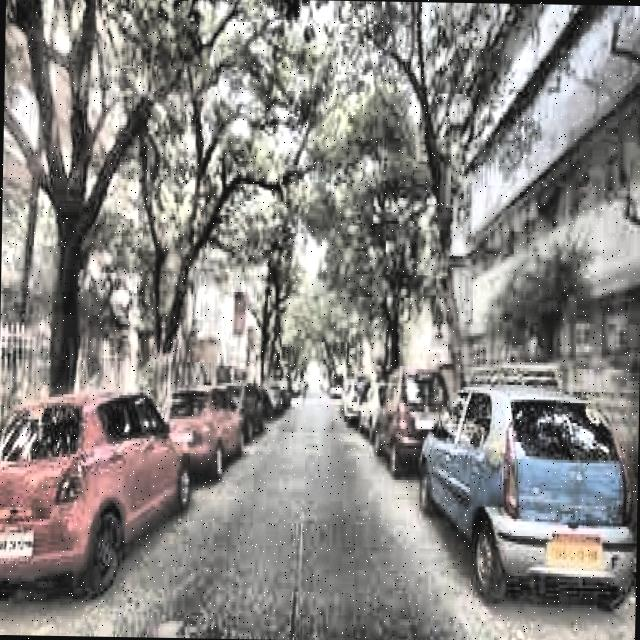license_plate: (545, 535, 604, 570), (0, 525, 33, 562)
